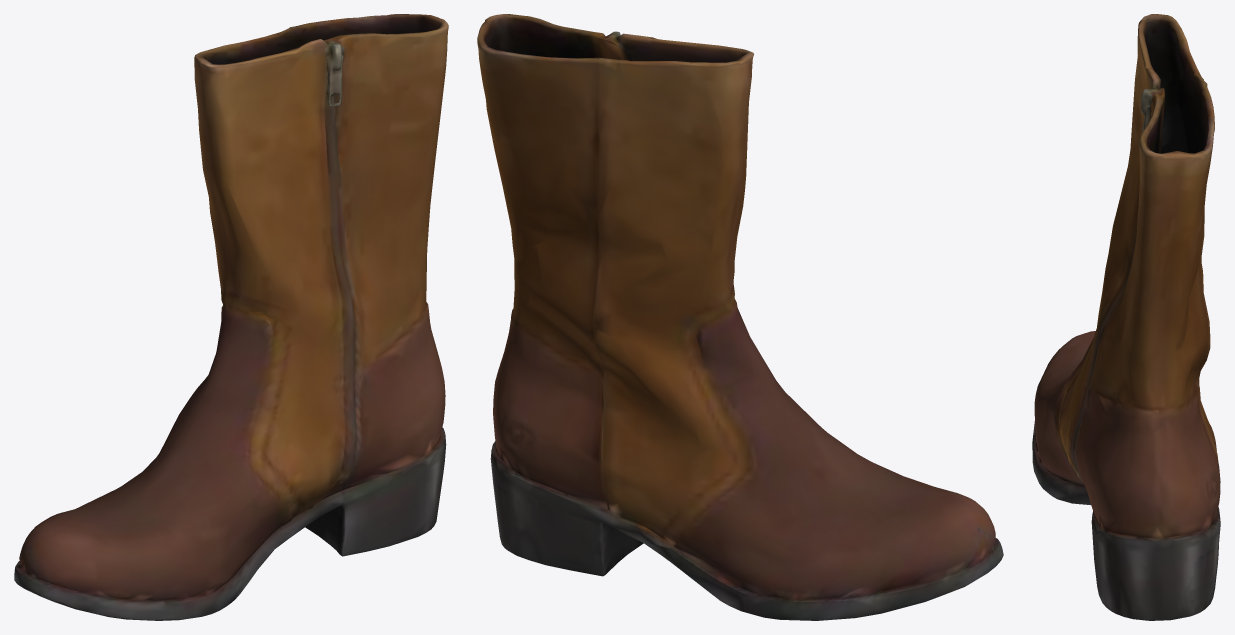
The model's file is W_Lou_z0dkC78niiZ-high.glb.
3 views of the same model, side by side, from view 1: azimuth 30°, elevation 25°; view 2: azimuth 150°, elevation 25°; view 3: azimuth 270°, elevation 25° (orthographic). The views are drawn at different scales.
Parts seen in each view (by area): view 1: W_Lou_z0dkC78niiZ; view 2: W_Lou_z0dkC78niiZ; view 3: W_Lou_z0dkC78niiZ.
Boxes of the visible parts, x1,y1,x2,y2 form: W_Lou_z0dkC78niiZ: [14, 14, 448, 620]; W_Lou_z0dkC78niiZ: [477, 14, 1003, 620]; W_Lou_z0dkC78niiZ: [1032, 14, 1220, 620].
Bounding box in the file's own units: 0.2528 × 0.2686 × 0.092.
1 material, 1 textured.
